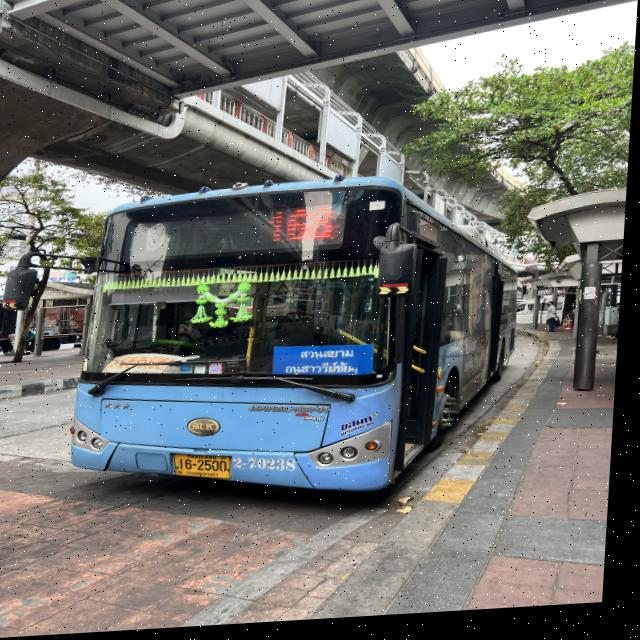BMTA-bus: (73, 182, 524, 501)
Bus Line Number: (265, 201, 347, 251)
Bus Side Number: (238, 451, 307, 480)
Destination Sign: (276, 347, 378, 385)
